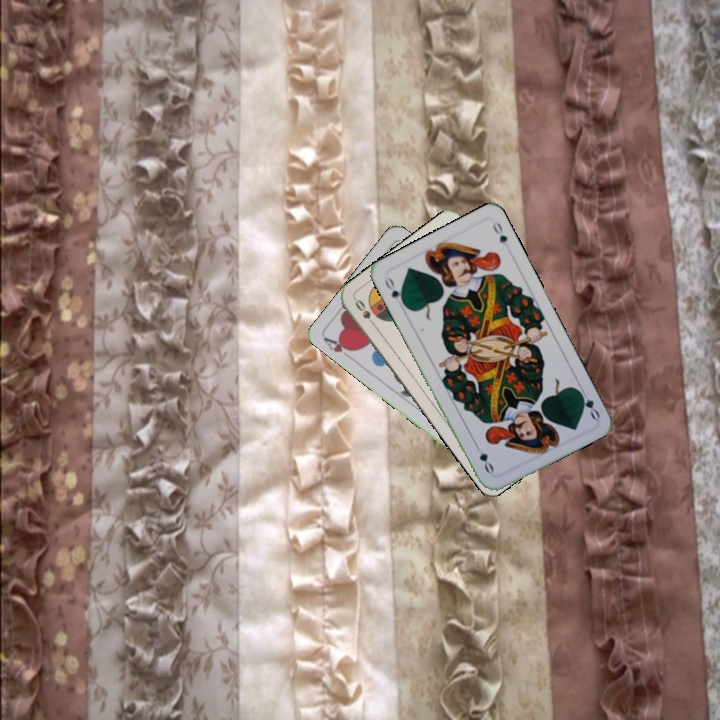GO: (574, 384, 603, 422), (381, 273, 408, 309)
HA: (320, 333, 358, 362)
SO: (351, 295, 380, 331)
